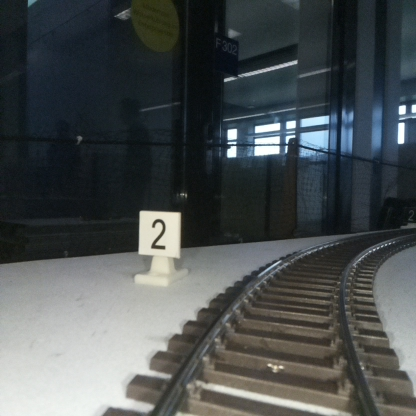white-stop-2: (138, 212, 180, 283)
